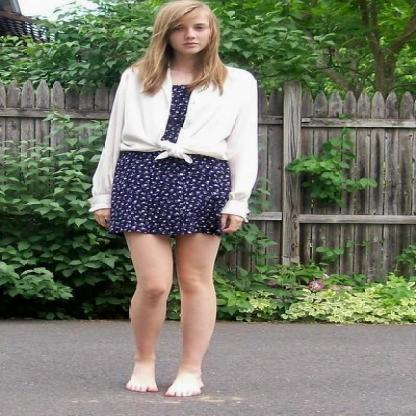dress: (108, 81, 232, 236)
shirt: (87, 66, 257, 218)
